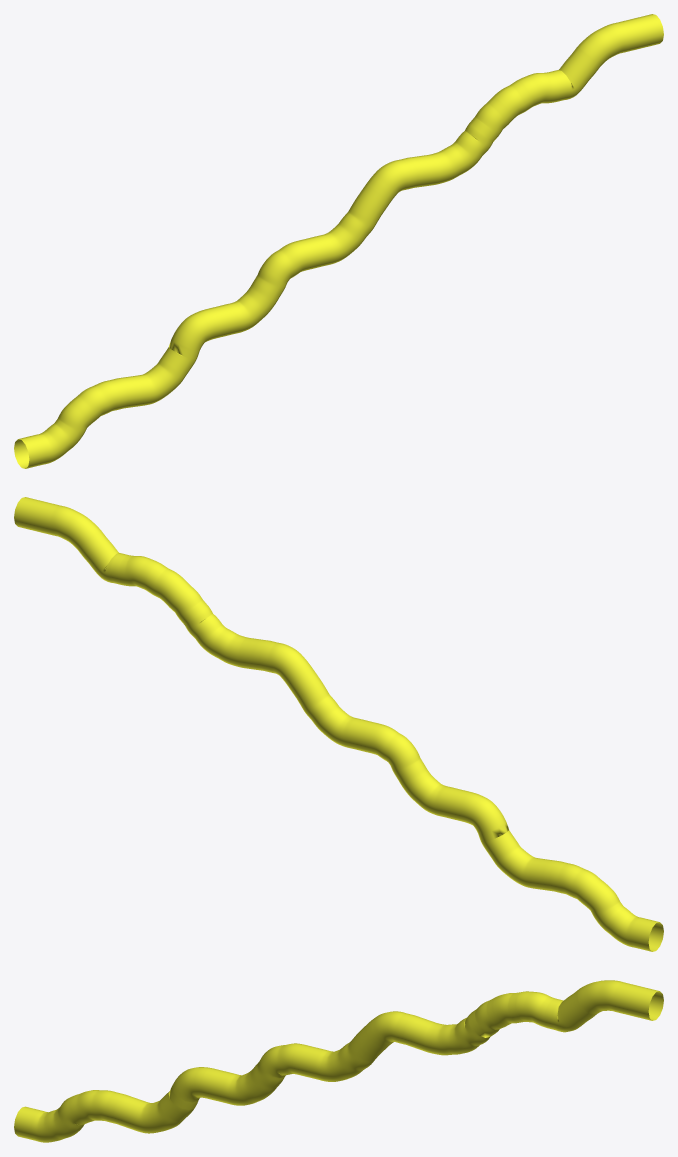
File: tobogan2.fbx
3 views of the same model, one above another, from view 1: azimuth 30°, elevation 25°; view 2: azimuth 150°, elevation 25°; view 3: azimuth 330°, elevation 25° (orthographic).
Visible parts, largest first — view 1: Tobogan2; view 2: Tobogan2; view 3: Tobogan2.
Boxes of the visible parts, x1,y1,x2,y2 form: Tobogan2: (14,14,663,468); Tobogan2: (14,497,663,951); Tobogan2: (14,980,663,1142).
Size of the model in its own units: 285 by 128 by 12.
